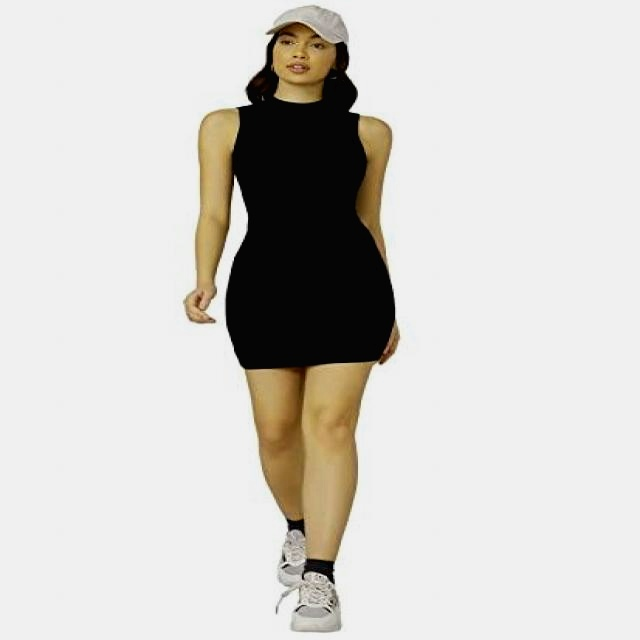Miniskirt: (223, 230, 398, 517)
Sleeveless: (195, 107, 241, 152), (359, 114, 394, 157)
